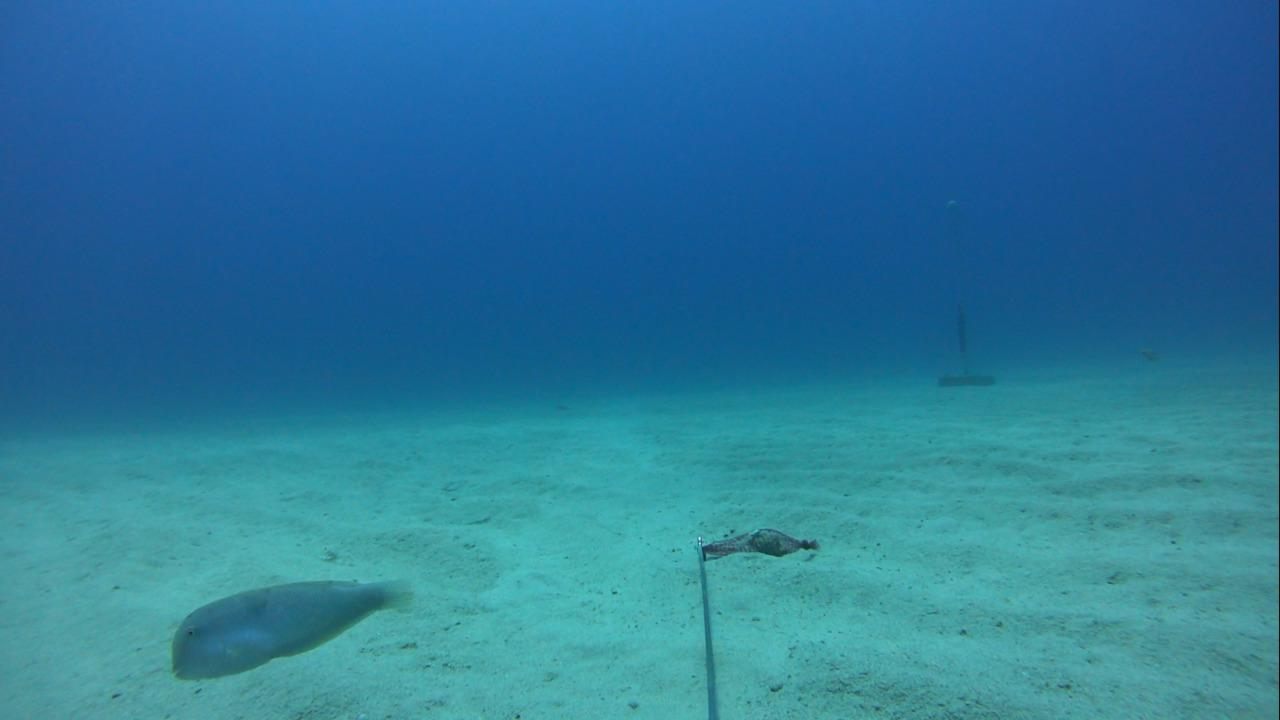raor: (162, 572, 413, 689)
